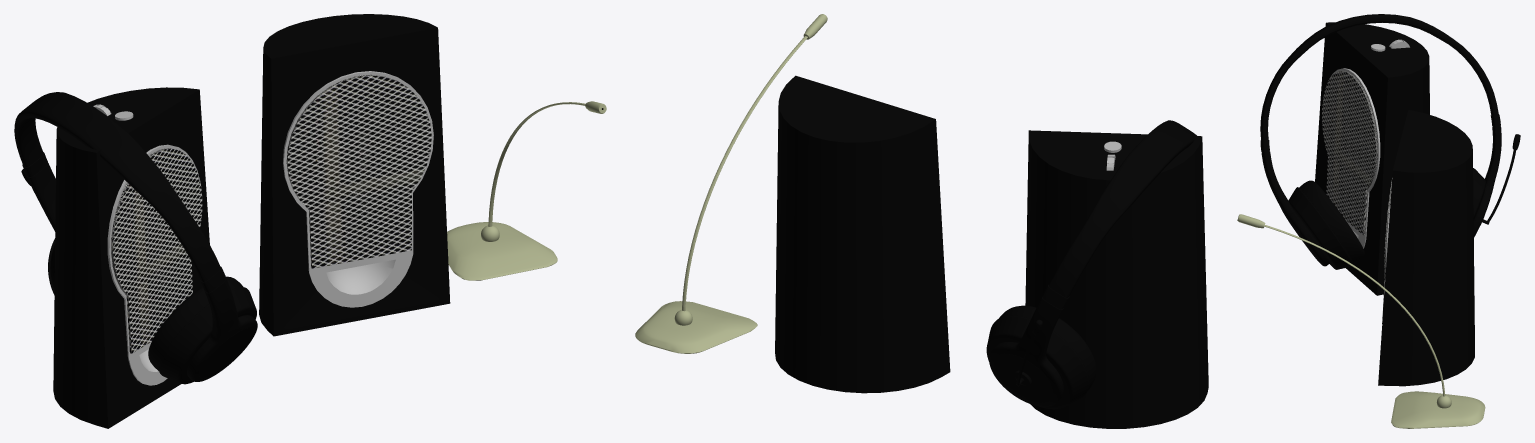
File: AssistenzaNew.gltf
3 renders of one model, left to right at view 1: azimuth 30°, elevation 25°; view 2: azimuth 150°, elevation 25°; view 3: azimuth 270°, elevation 25°, orthographic. The views are drawn at different scales.
Parts seen in each view (by area): view 1: Bianco Altoparlante SX; view 2: Bianco Altoparlante SX; view 3: Bianco Altoparlante SX.
Part boxes in pixels (box(x1,y1,x2,y2)): Bianco Altoparlante SX: box(14, 14, 606, 428); Bianco Altoparlante SX: box(635, 14, 1208, 428); Bianco Altoparlante SX: box(1237, 14, 1520, 428).
Size of the model in its own units: 1.11 by 0.5898 by 0.6582.
5 materials, 1 textured.
